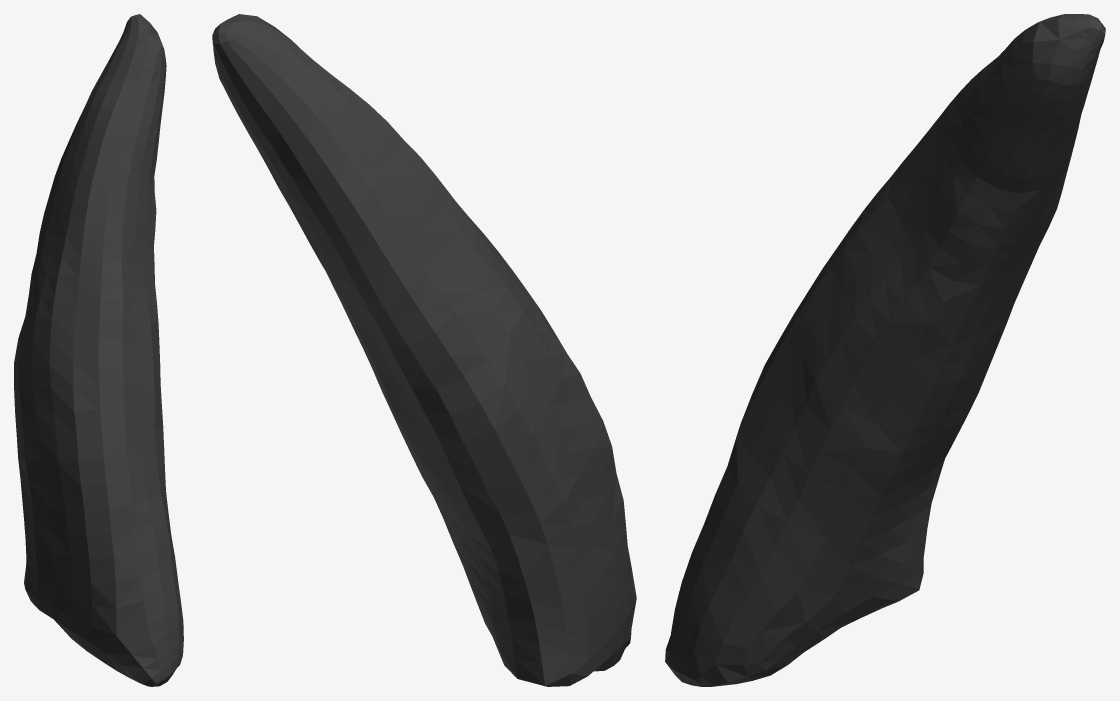
File: R_max_I3.glb
The picture shows the model from 3 angles, left to right: view 1: azimuth 30°, elevation 25°; view 2: azimuth 150°, elevation 25°; view 3: azimuth 270°, elevation 25°; orthographic projection. The views are drawn at different scales.
Parts seen in each view (by area): view 1: R_max_I3; view 2: R_max_I3; view 3: R_max_I3.
Boxes of the visible parts, <box> form: R_max_I3: <box>14,14,183,686</box>; R_max_I3: <box>212,14,636,686</box>; R_max_I3: <box>665,14,1105,686</box>.
Bounding box in the file's own units: 0.3588 × 0.9313 × 0.4992.
1 material, 1 textured.
